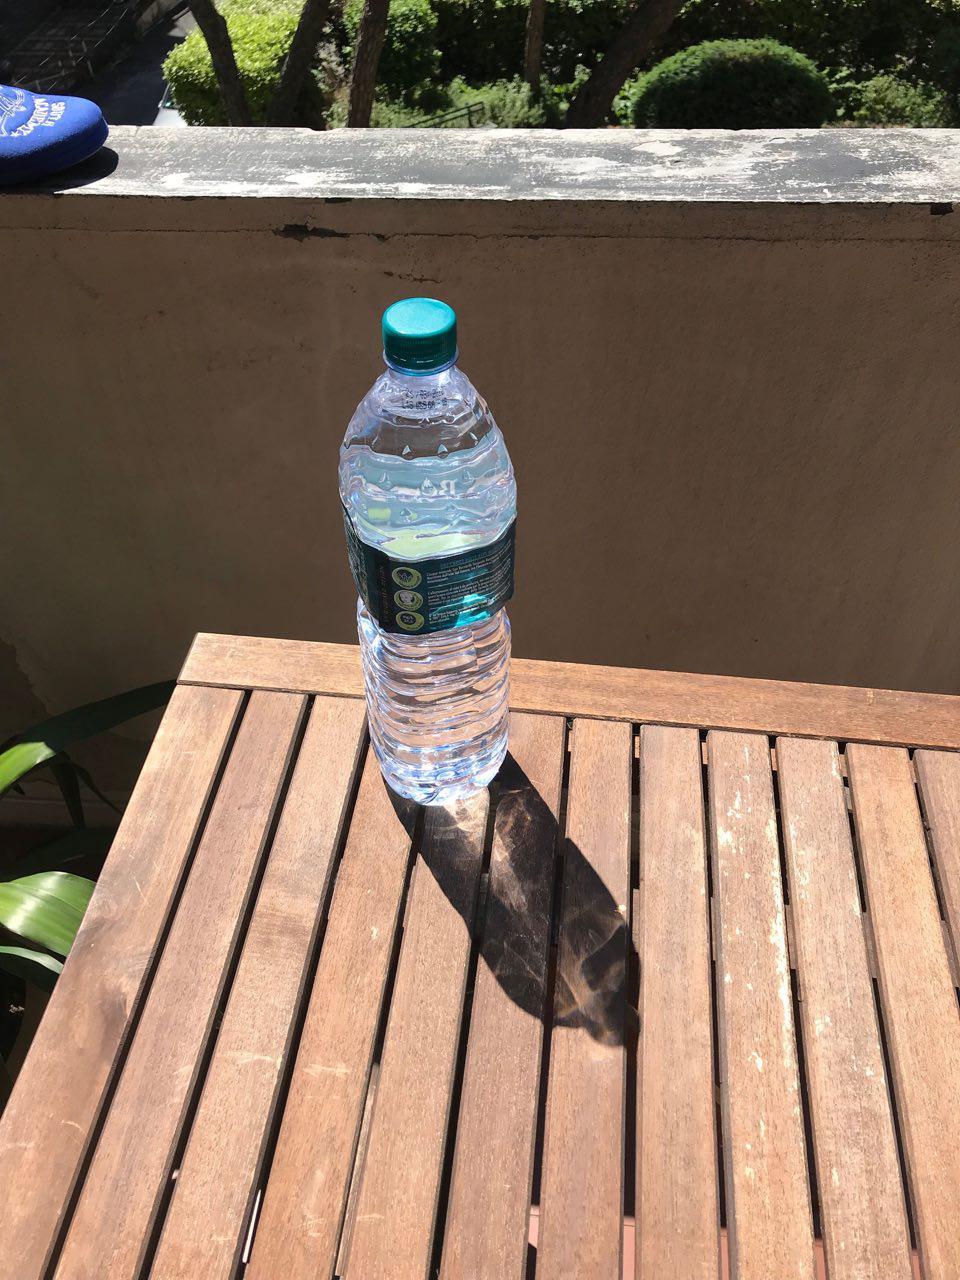san_bernardo: (337, 294, 520, 807)
